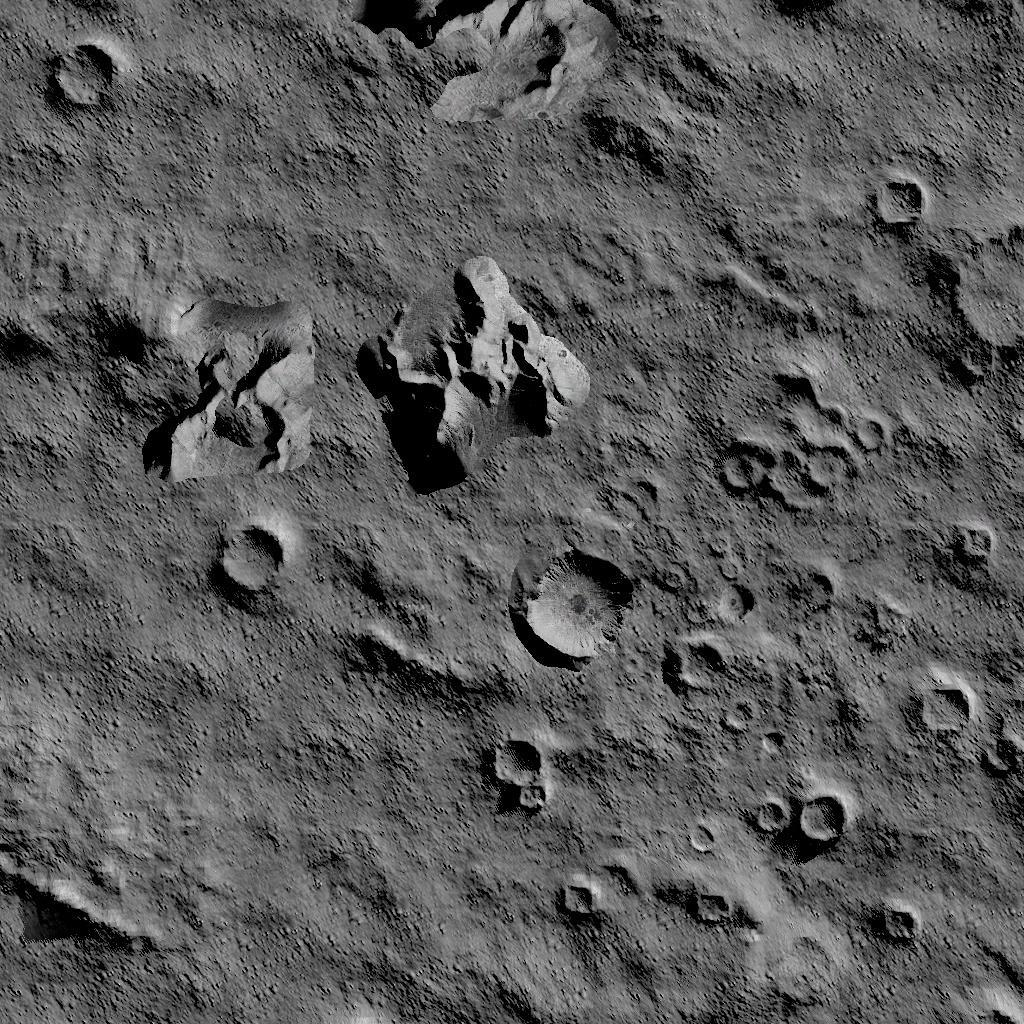Boulders: (349, 253, 586, 492), (122, 281, 310, 476), (392, 0, 615, 131)
Crater: (712, 368, 880, 510), (520, 546, 638, 663), (947, 214, 1024, 363), (210, 515, 290, 601), (44, 40, 126, 110), (747, 792, 845, 841), (941, 967, 1024, 1024), (488, 736, 552, 809), (870, 172, 934, 230), (916, 683, 974, 737), (982, 715, 1024, 788), (664, 636, 725, 686), (946, 515, 998, 561), (712, 582, 758, 623), (556, 871, 598, 913), (874, 906, 918, 944), (690, 882, 734, 918), (684, 814, 717, 850), (732, 697, 758, 729)
Plan surface: (211, 652, 479, 954), (0, 488, 197, 807), (137, 0, 373, 192)
